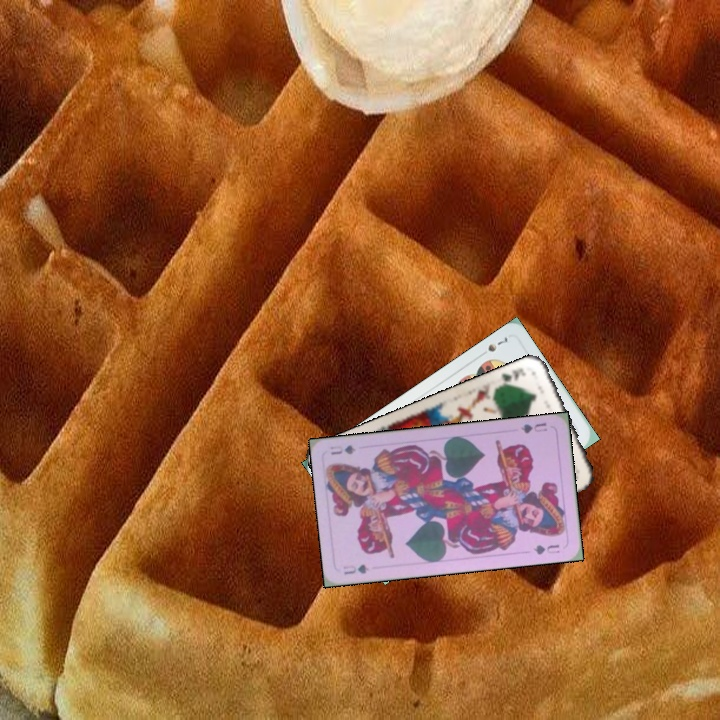GK: (497, 363, 529, 389)
GU: (516, 418, 549, 436), (339, 560, 371, 577)
S7: (475, 333, 510, 359)
